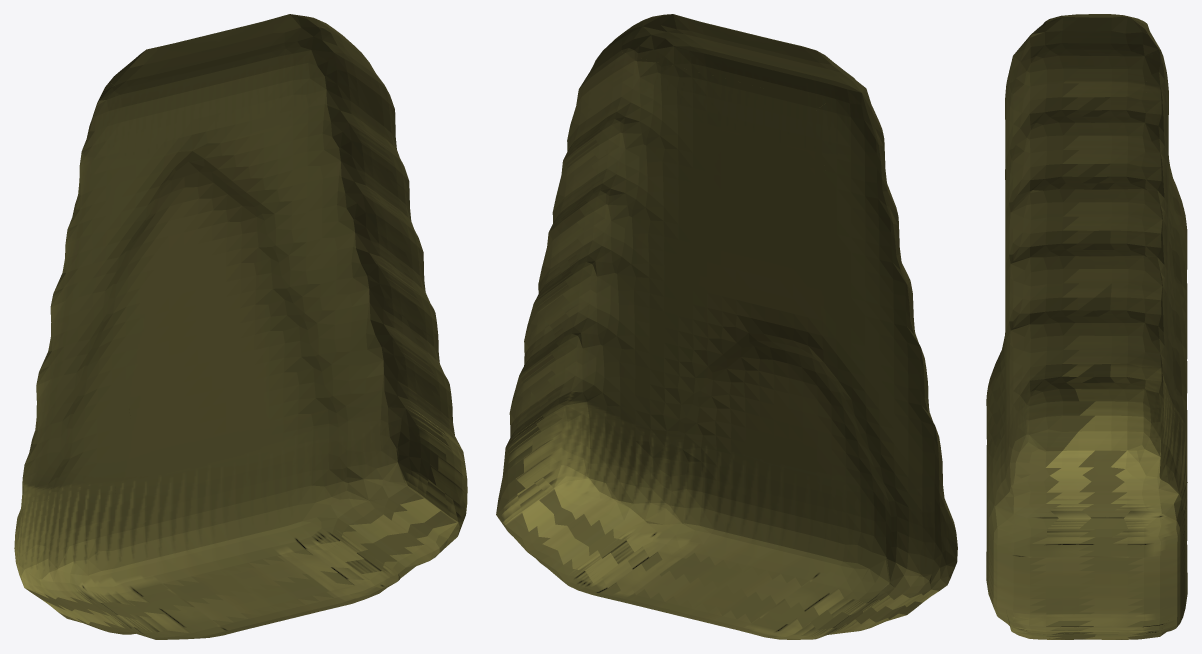
The picture shows the model from 3 angles, left to right: view 1: azimuth 30°, elevation 25°; view 2: azimuth 150°, elevation 25°; view 3: azimuth 270°, elevation 25°; orthographic projection. The views are drawn at different scales.
Parts seen in each view (by area): view 1: model; view 2: model; view 3: model.
Part boxes in pixels (x1,y1,x2,y2): model: (14, 14, 467, 639); model: (496, 14, 957, 639); model: (986, 14, 1187, 639).
Size of the model in its own units: 0.7766 by 1 by 0.3404.
1 material, 1 textured.
